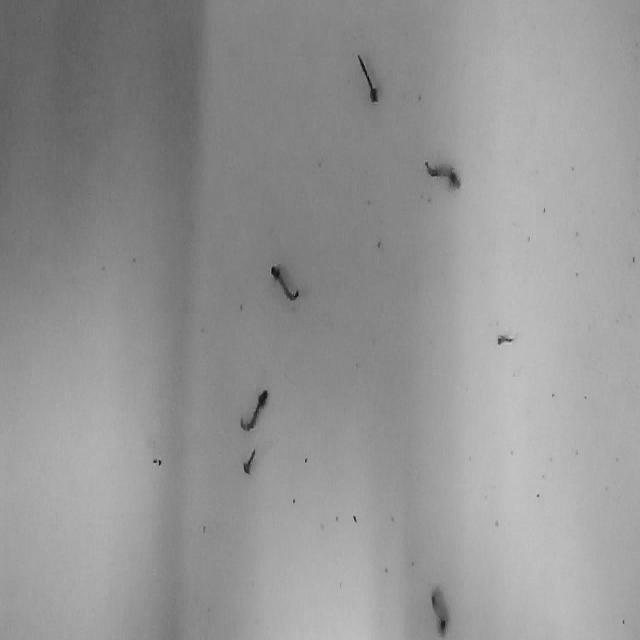larvas: (239, 388, 269, 431), (424, 160, 461, 191), (270, 262, 298, 302), (357, 52, 378, 104), (431, 586, 448, 634), (242, 447, 255, 473), (497, 332, 517, 344)
